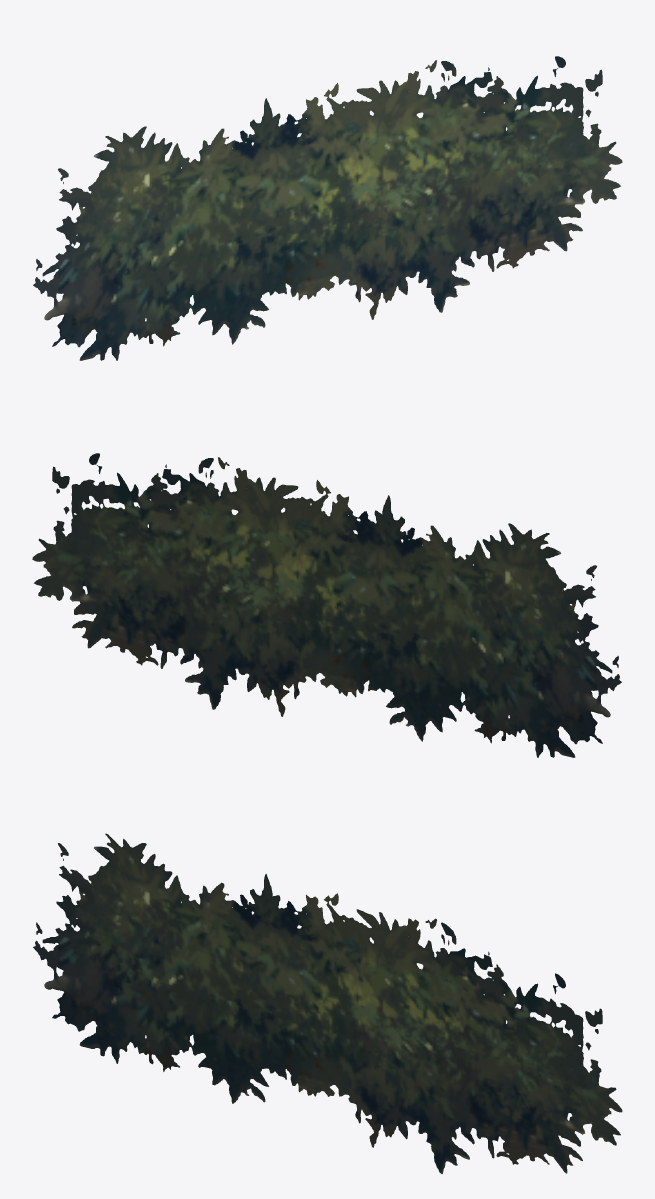
Rendered from HuBian_NightZhiwu8_fbx.FBX.
3 renders of one model, top to bottom at view 1: azimuth 30°, elevation 25°; view 2: azimuth 150°, elevation 25°; view 3: azimuth 330°, elevation 25°, orthographic.
Visible parts, largest first — view 1: Object035; view 2: Object035; view 3: Object035.
Part boxes in pixels (x1,y1,x2,y2): Object035: [33, 56, 622, 360]; Object035: [32, 453, 621, 757]; Object035: [33, 833, 622, 1173].
Size of the model in its own units: 2.82 by 1.22 by 2.5e-07.
Materials: 1 (1 with a texture image).
